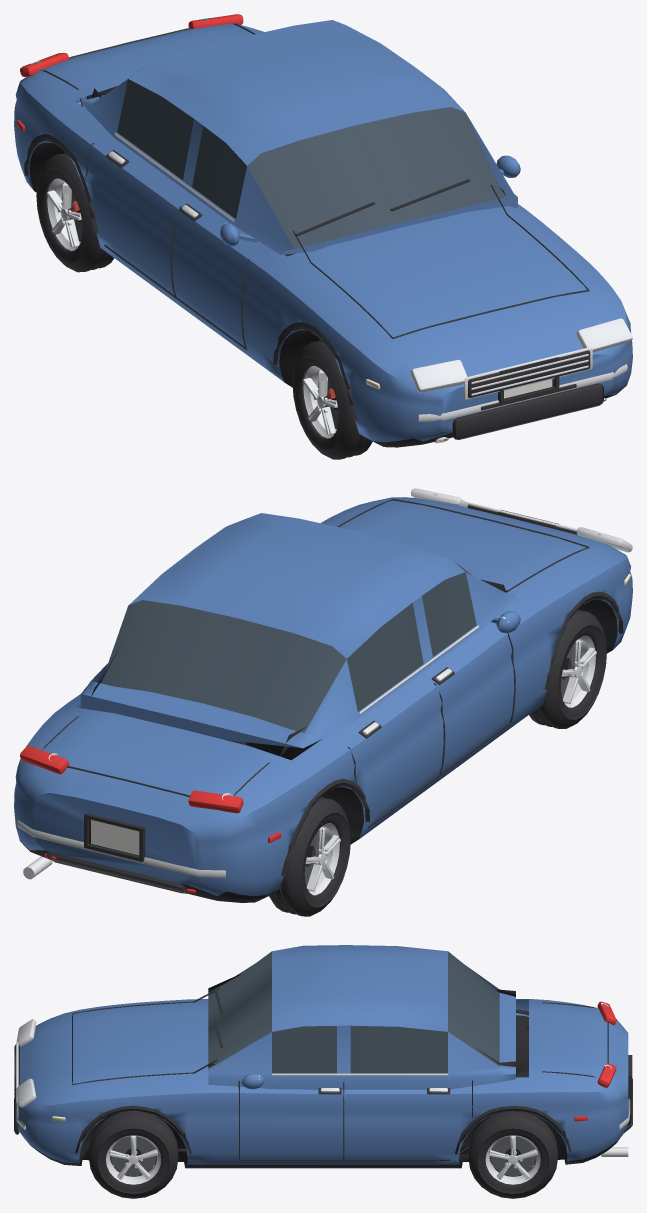
File: CarV2_Sedan.fbx
3 views of the same model, one above another, from view 1: azimuth 30°, elevation 25°; view 2: azimuth 150°, elevation 25°; view 3: azimuth 270°, elevation 25° (orthographic). The views are drawn at different scales.
Parts seen in each view (by area): view 1: CarV2_Sedan; view 2: CarV2_Sedan; view 3: CarV2_Sedan.
Part boxes in pixels (bbox=[...]): CarV2_Sedan: bbox=[14, 14, 632, 459]; CarV2_Sedan: bbox=[14, 488, 632, 916]; CarV2_Sedan: bbox=[14, 945, 632, 1198].
Size of the model in its own units: 1.86 by 1.45 by 4.57.
